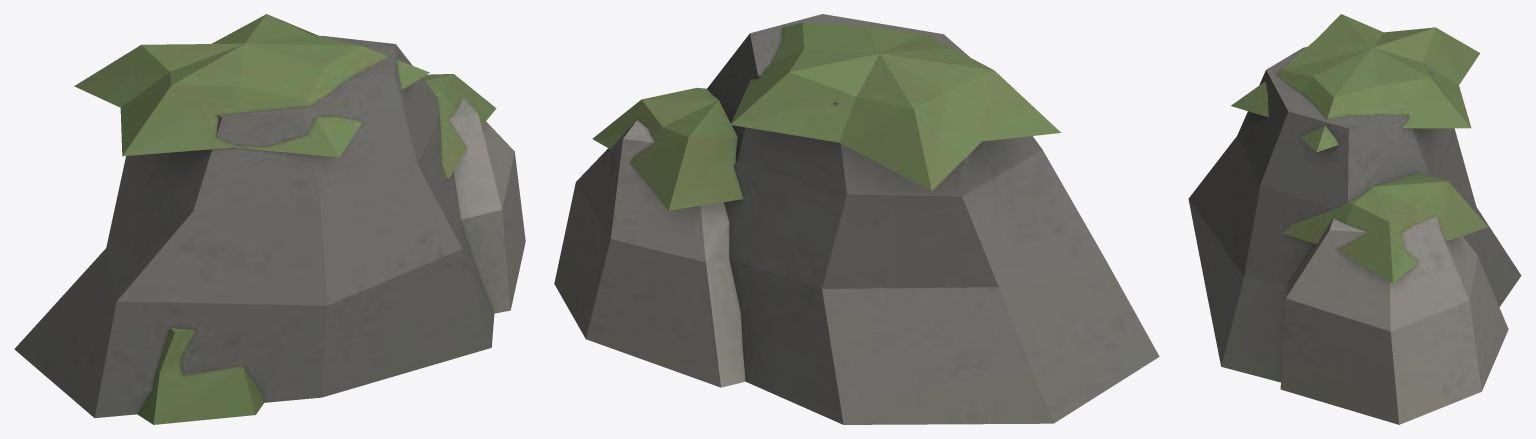
Rendered from rocha_agua.glb.
3 views of the same model, side by side, from view 1: azimuth 30°, elevation 25°; view 2: azimuth 150°, elevation 25°; view 3: azimuth 270°, elevation 25° (orthographic). The views are drawn at different scales.
Parts seen in each view (by area): view 1: rocha_agua_corpo; view 2: rocha_agua_corpo; view 3: rocha_agua_corpo.
Boxes of the visible parts, x1,y1,x2,y2 form: rocha_agua_corpo: (14,14,525,424); rocha_agua_corpo: (554,14,1159,424); rocha_agua_corpo: (1188,14,1521,424).
Size of the model in its own units: 0.68 by 0.362 by 0.4383.
1 material, 1 textured.
